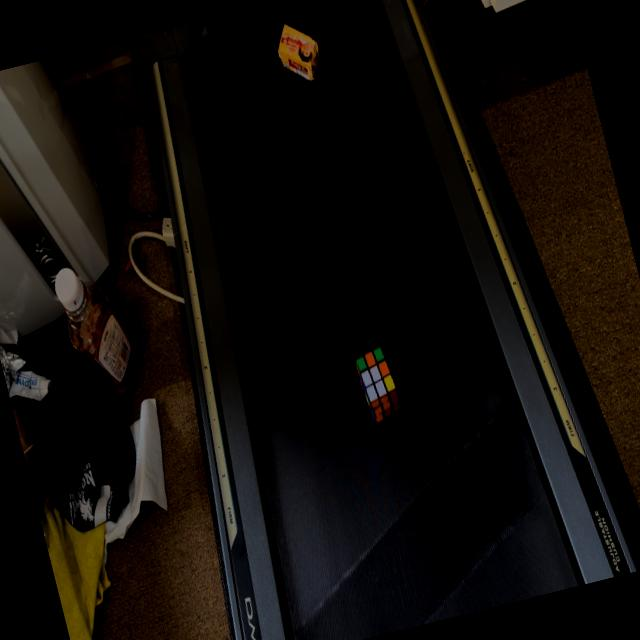Trash: (346, 336, 409, 434), (270, 13, 332, 93)
